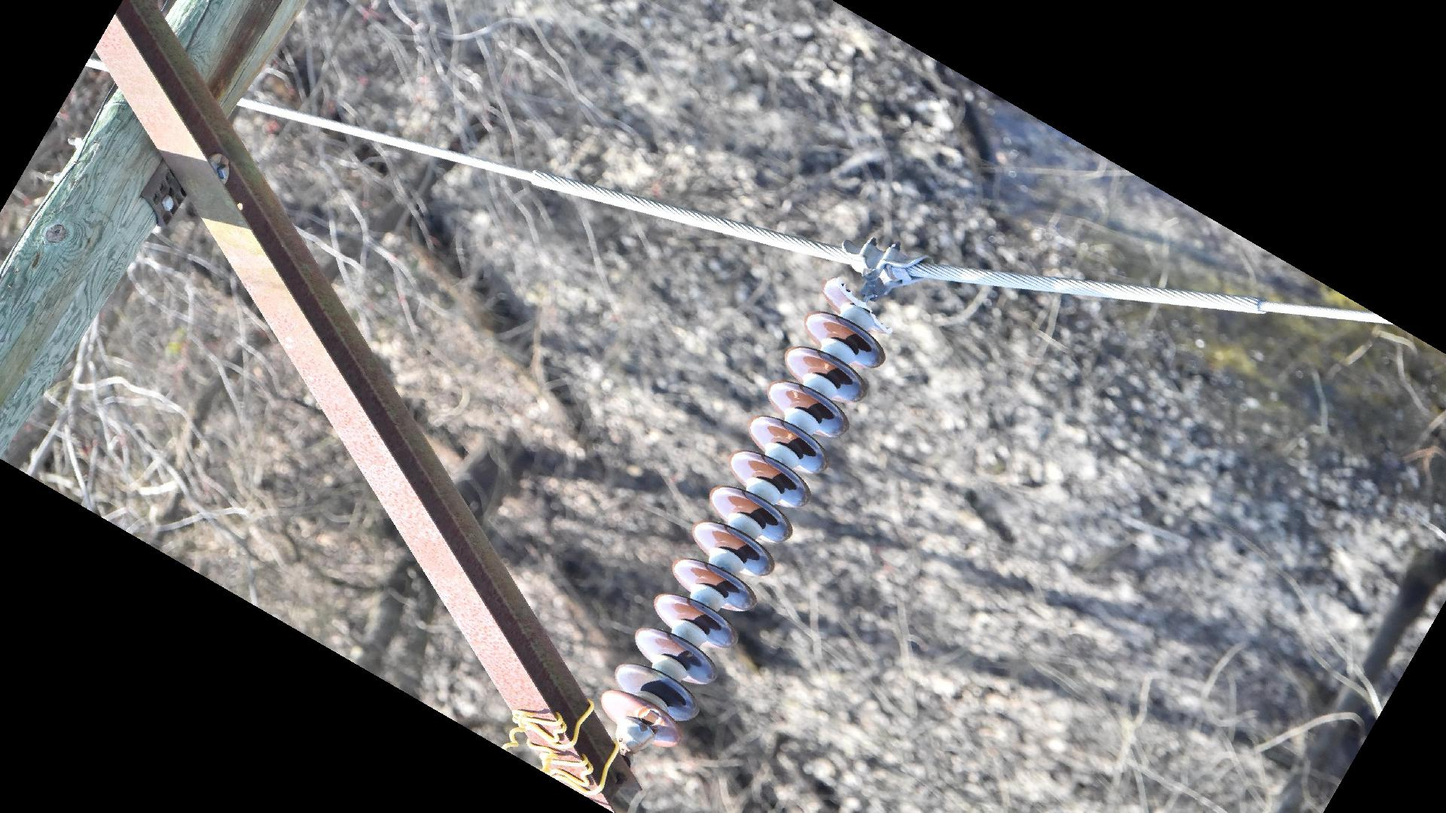insulator: (589, 263, 904, 751)
insulator_breakage: (829, 273, 900, 340)
insulator_flashover: (639, 708, 661, 727)
